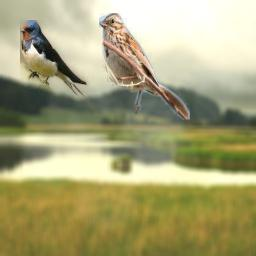Sparrow: (99, 13, 190, 120)
Swallow: (20, 20, 98, 116)
